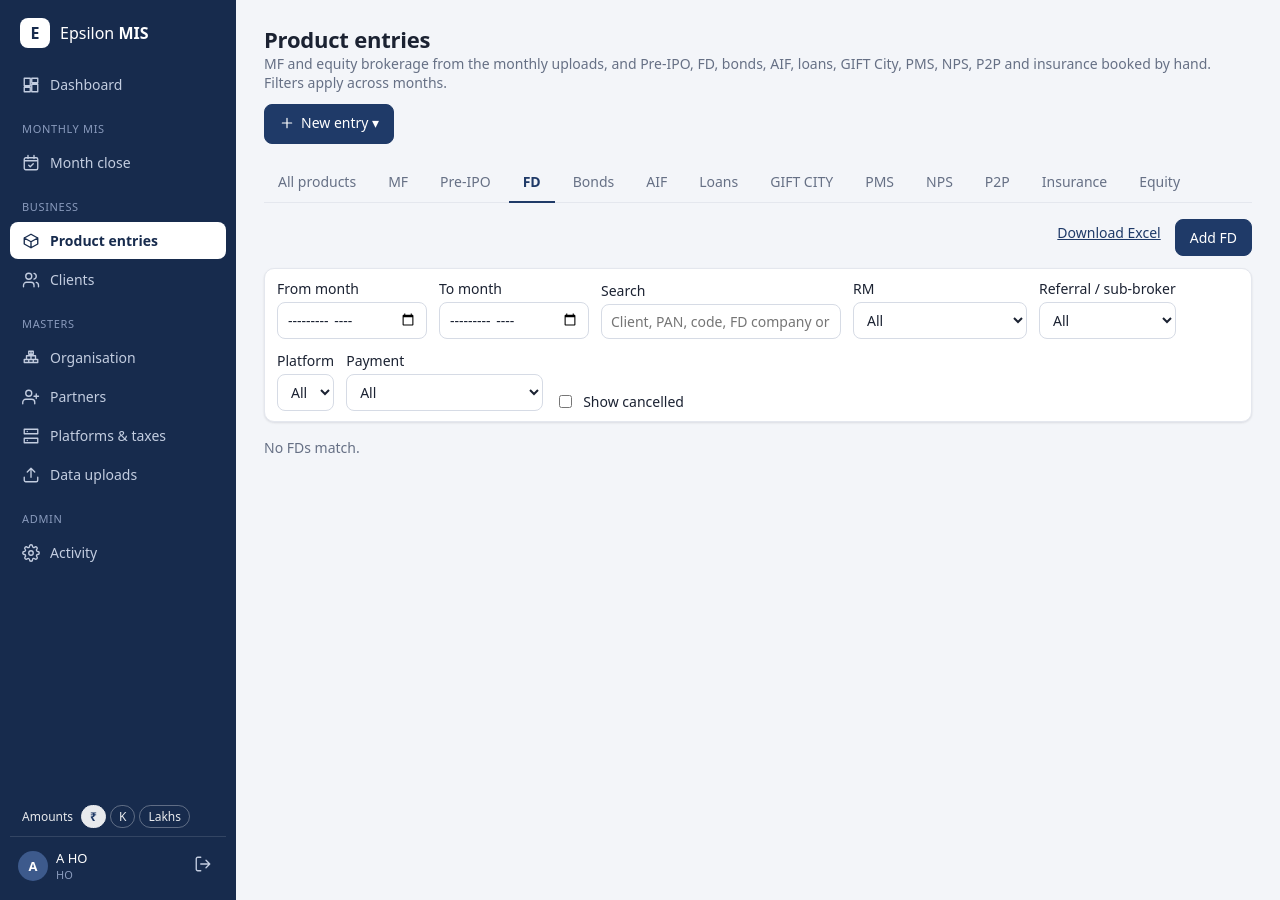
fd screen › finds an existing client by code and takes the RM from the client
Click the button "Add FD" at (1213, 237), box x1=1175 y1=218 x2=1252 y2=256
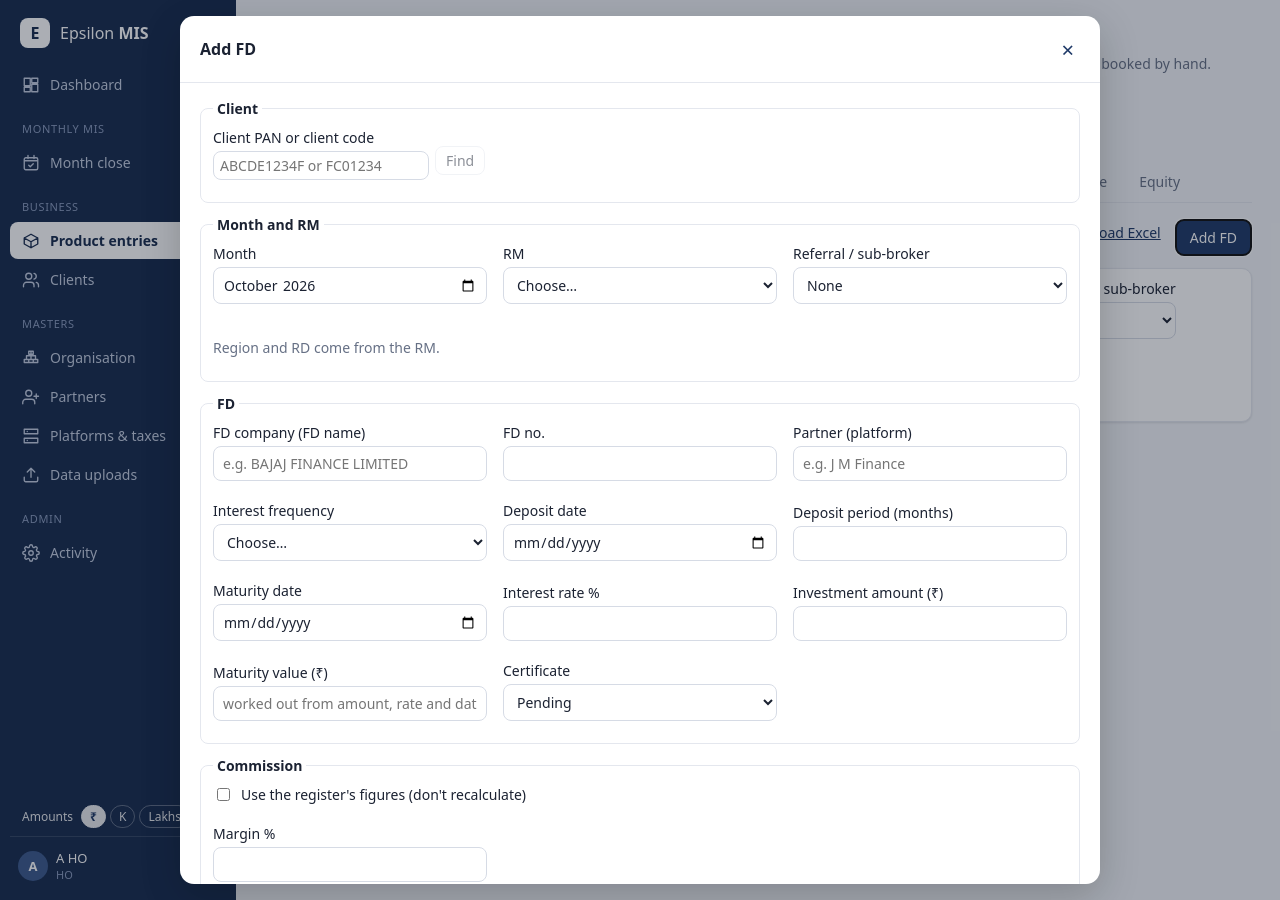
Type "fc01234" into the field labelled "Client PAN or client code" at (321, 166), box x1=213 y1=151 x2=429 y2=180
Then press Enter
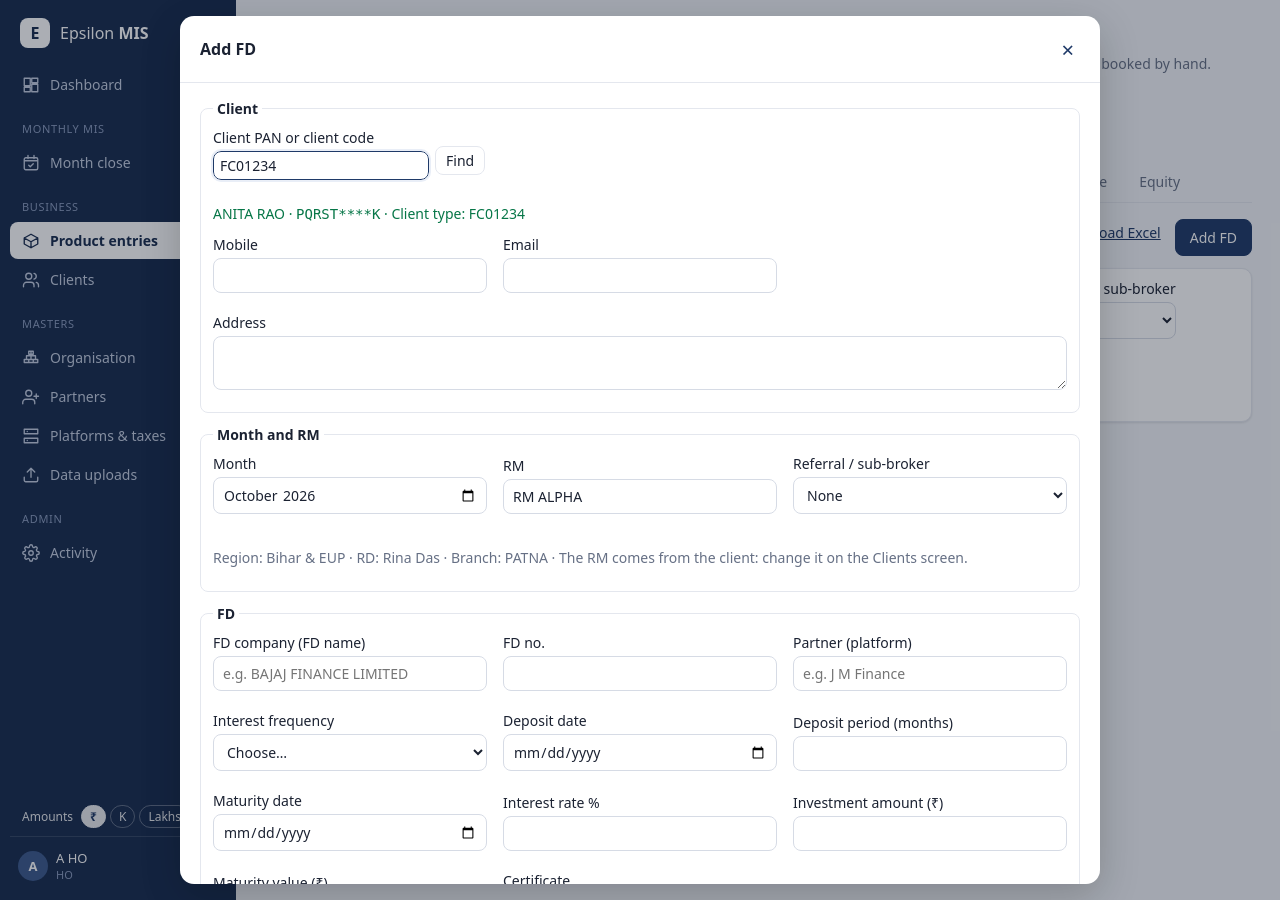
expect the text "ANITA RAO · PQRST****K · Client type: FC01234" is shown: met, box x1=213 y1=204 x2=525 y2=223
expect the field labelled "RM" holds "RM ALPHA": met, box x1=503 y1=479 x2=777 y2=514
expect the text "change it on the Clients screen" is shown: met, box x1=548 y1=548 x2=968 y2=567
